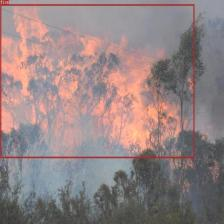fire: (0, 4, 194, 158)
